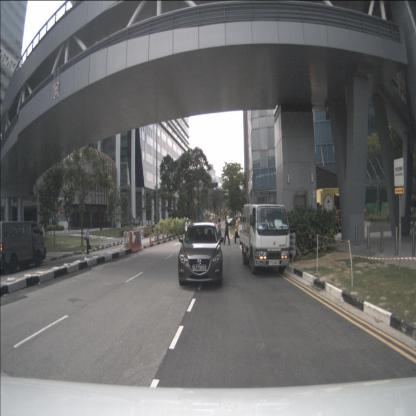barrier: (129, 231, 142, 254), (122, 231, 129, 250)
cone: (149, 233, 152, 244)
